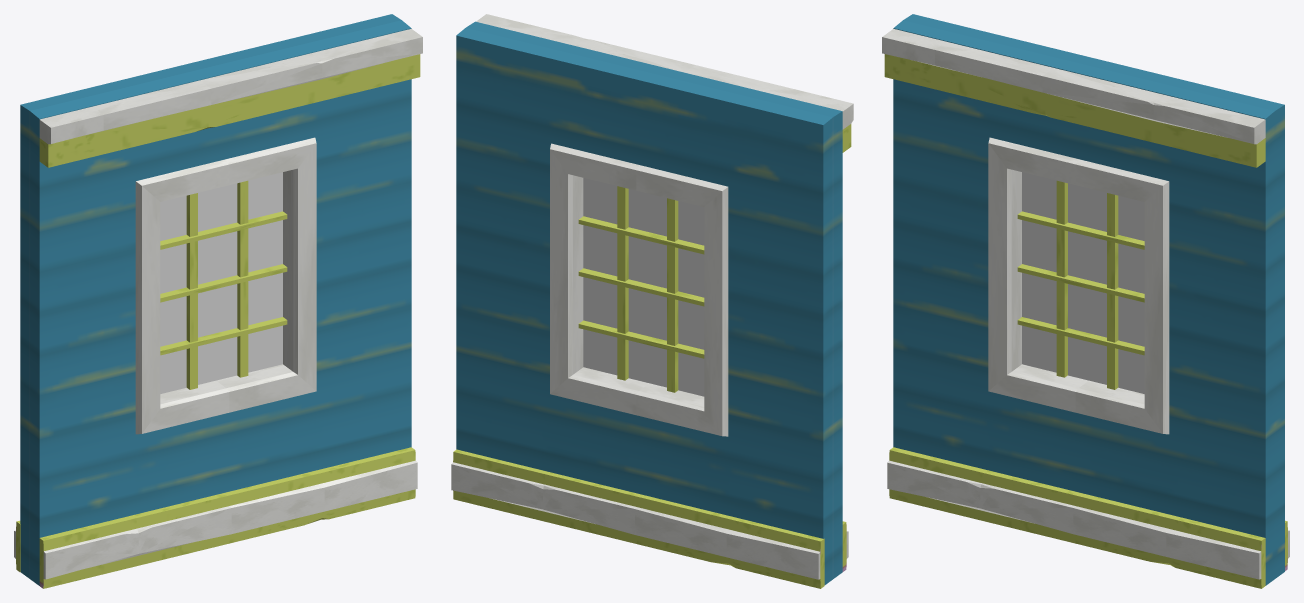
Rendered from Wall_Window_01.fbx.
3 renders of one model, left to right at view 1: azimuth 30°, elevation 25°; view 2: azimuth 150°, elevation 25°; view 3: azimuth 330°, elevation 25°, orthographic.
Parts seen in each view (by area): view 1: SM_Bld_Wall_Trim_09, Window; view 2: SM_Bld_Wall_Trim_09, Window; view 3: SM_Bld_Wall_Trim_09, Window.
Boxes of the visible parts, box(x1,y1,x2,y2) form: SM_Bld_Wall_Trim_09: box(14, 14, 422, 588); Window: box(160, 172, 282, 393); SM_Bld_Wall_Trim_09: box(451, 14, 853, 588); Window: box(583, 178, 704, 396); SM_Bld_Wall_Trim_09: box(882, 14, 1289, 588); Window: box(1022, 172, 1144, 393).
Size of the model in its own units: 250 by 301 by 42.13.
